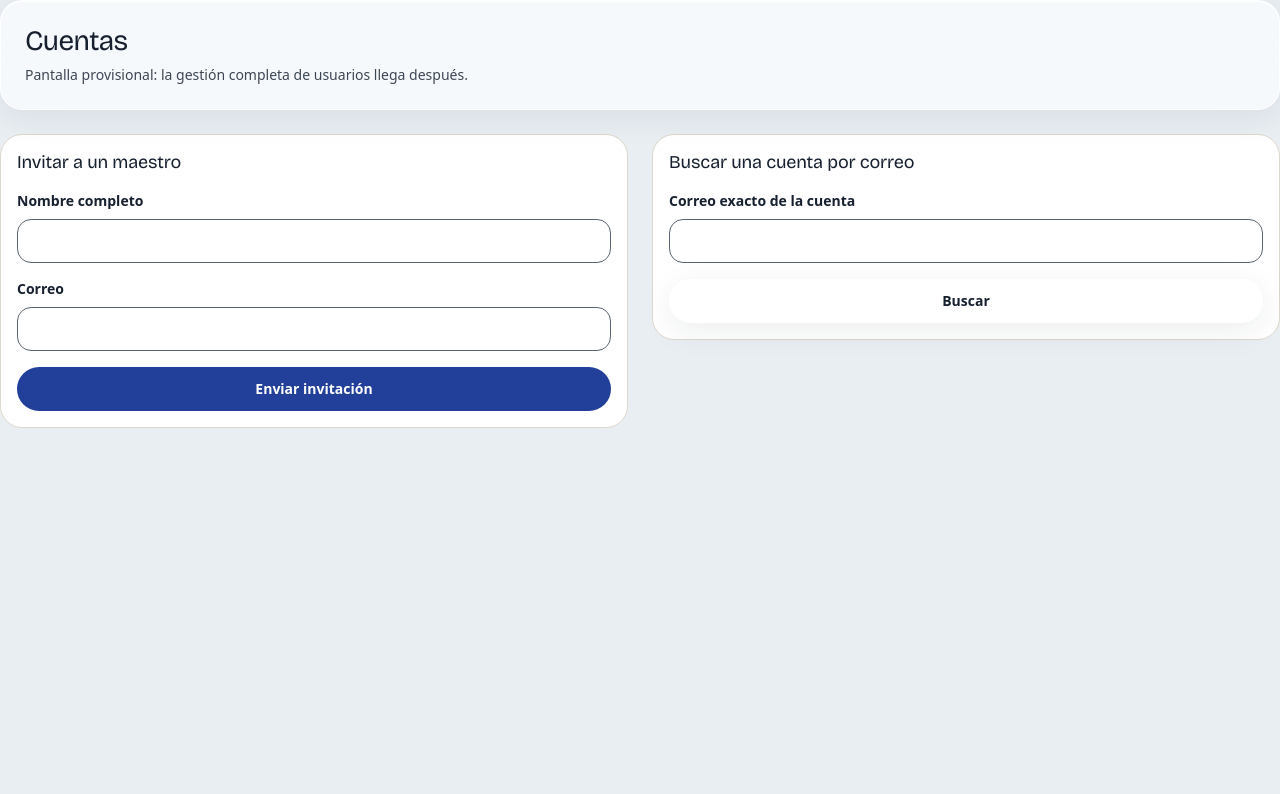
Test: ataque (AUTH-02b r1): la temporal se ve una sola vez › buscar otra cuenta que no existe (404) hace desaparecer la temporal
Type "carla@ejemplo.mx" into the field labelled "Correo exacto de la cuenta" at point(966, 241), box [669,219,1263,263]
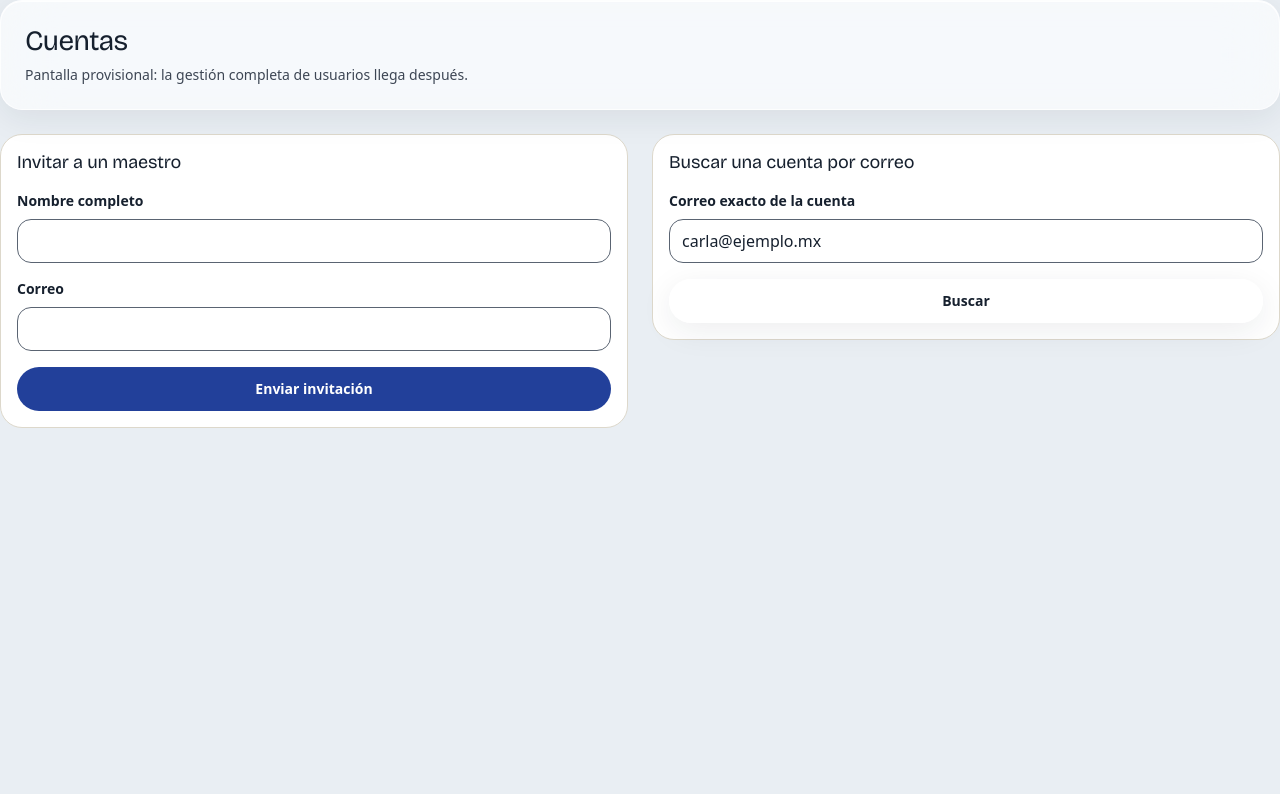
Click the button "Buscar" at point(966, 301), box [669,279,1263,323]
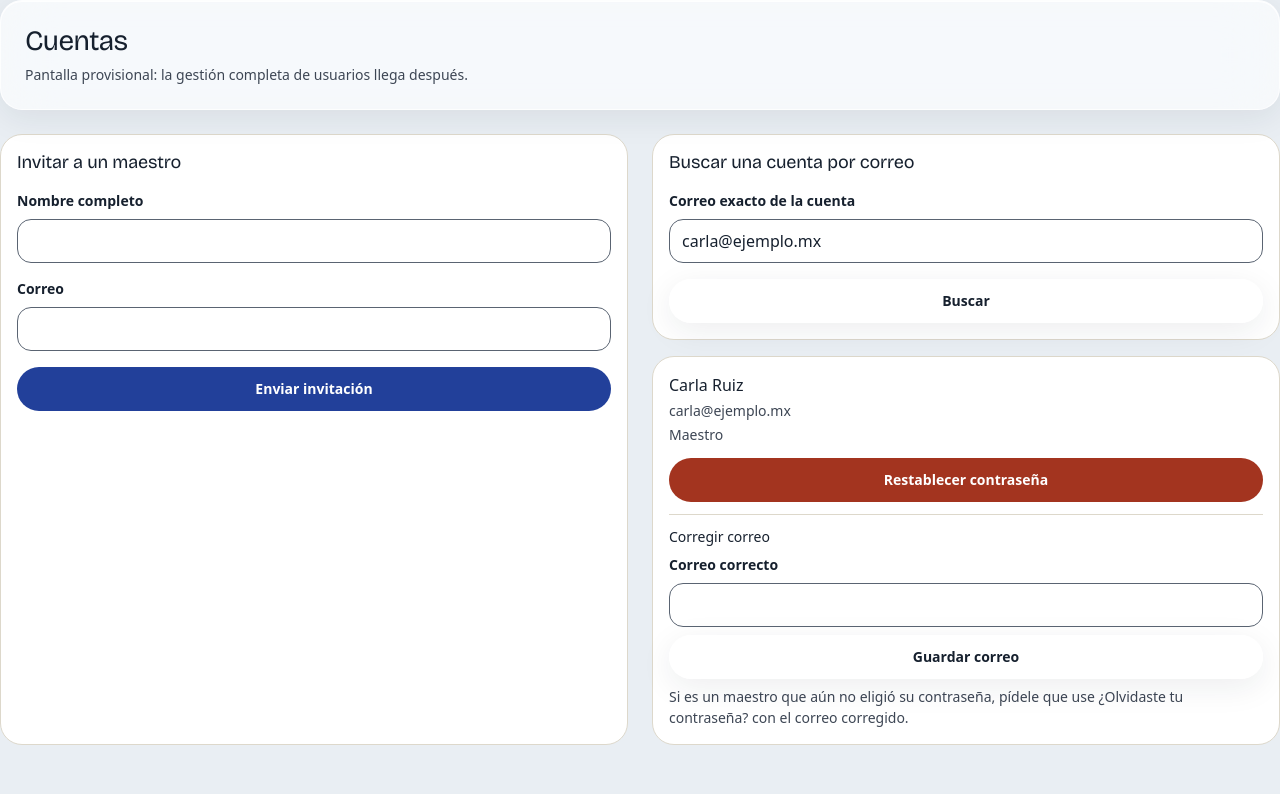
Check: the text "Carla Ruiz" is shown, box [669,374,744,396]
Click the button "Restablecer contraseña" at point(966, 480), box [669,458,1263,502]
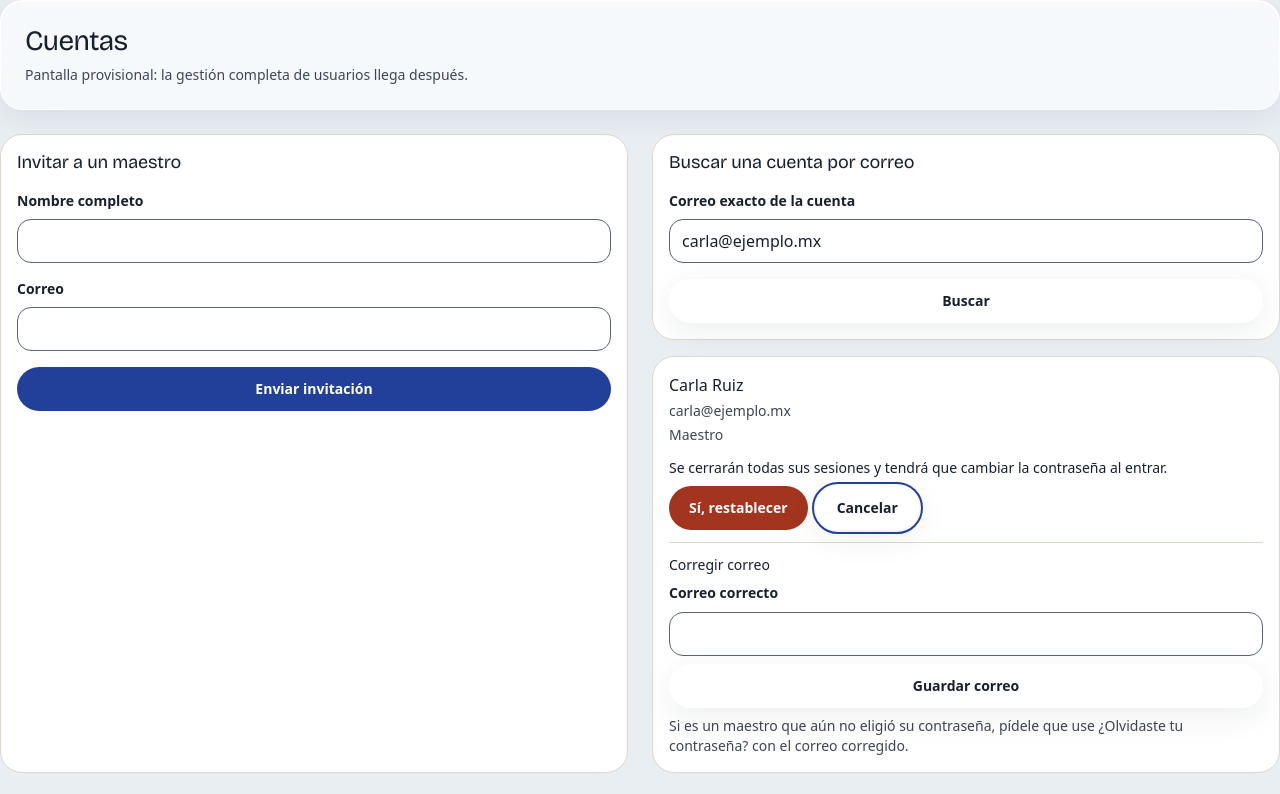
Click the button "Sí, restablecer" at point(738, 508), box [669,486,808,530]
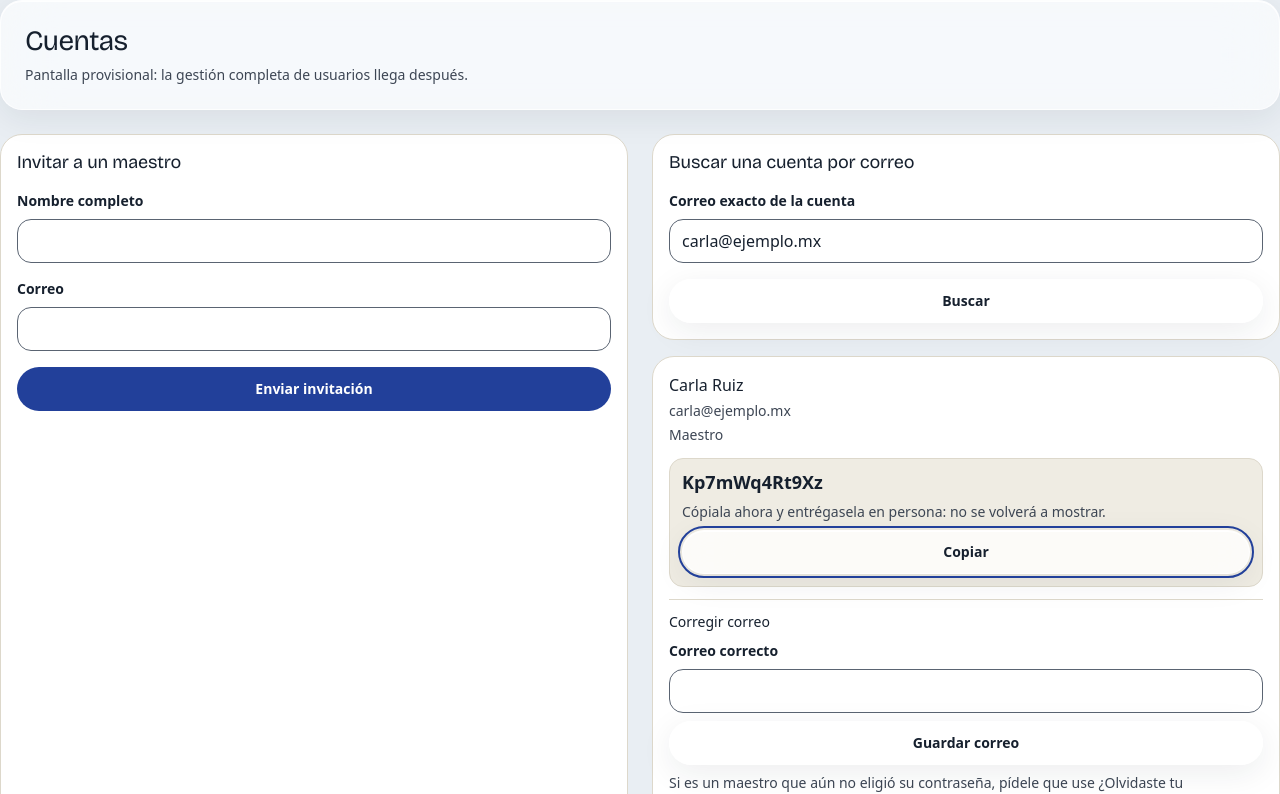
Check: the text "Kp7mWq4Rt9Xz" is shown, box [682,470,823,494]
Replace the text in the field labelled "Correo exacto de la cuenta" with "nadie@ejemplo.mx" at point(966, 241), box [669,219,1263,263]
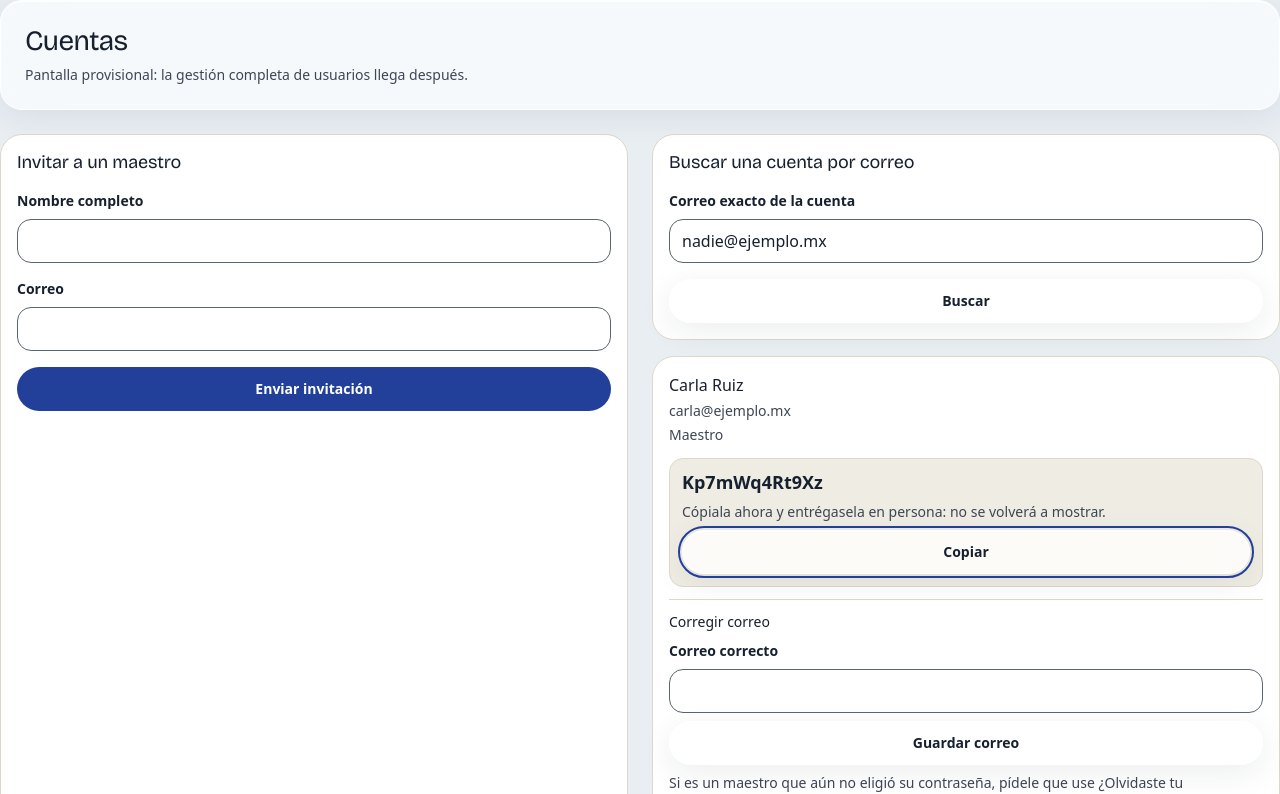
Click the button "Buscar" at point(966, 301), box [669,279,1263,323]
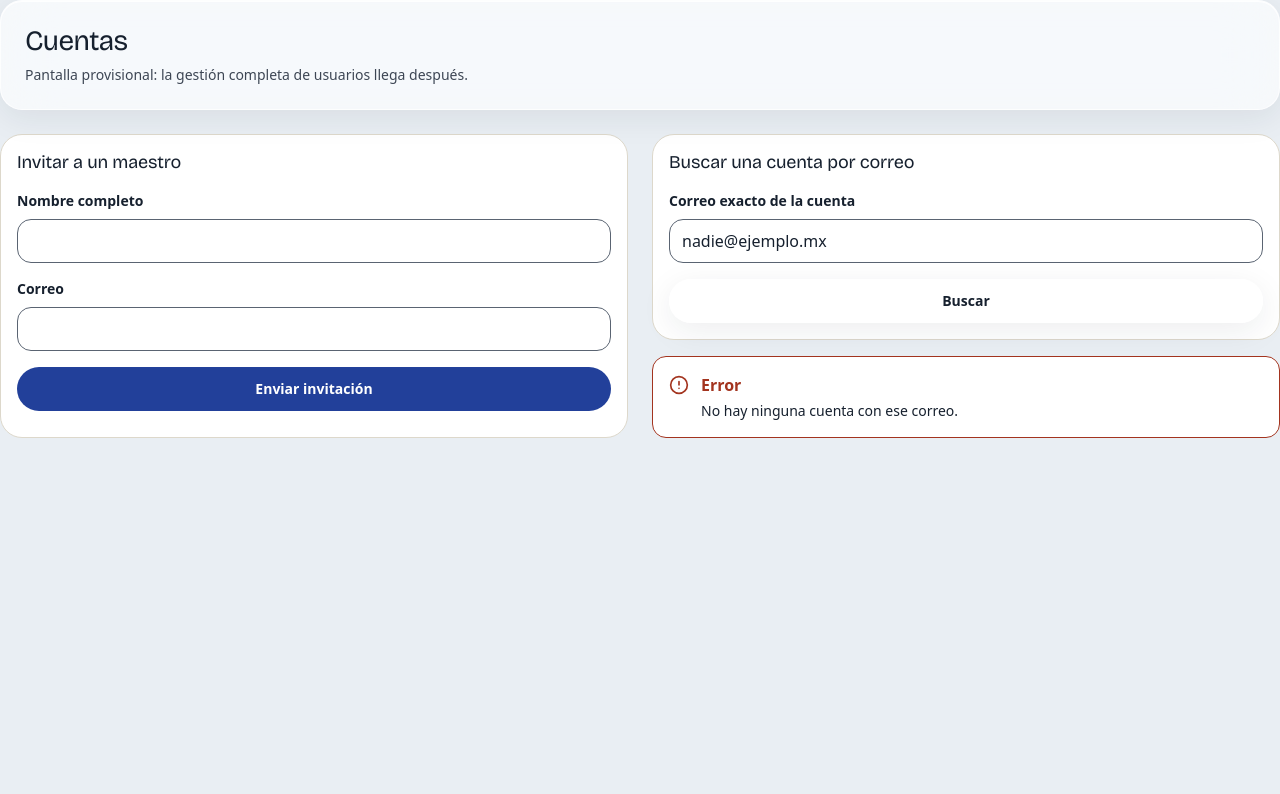
Check: the text "No hay ninguna cuenta con ese correo." is shown, box [701,401,958,422]
Check: the text "Kp7mWq4Rt9Xz" is gone
